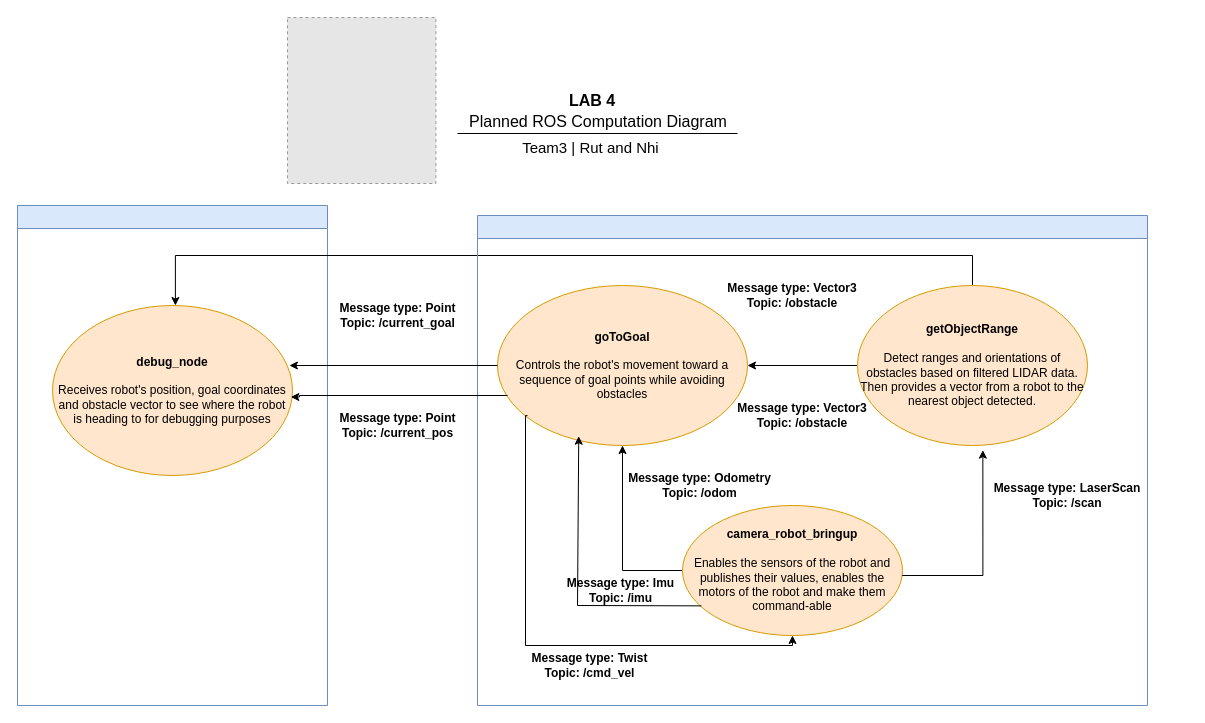
The diagram is 1205 pixels wide and 723 high, and some of its shapes have lost their labels. Grey dashed boxes stand in for pictures. The box of each missing label's shape, as (x1, y1, x2, y2) in pixels:
Laptop/Computer: (16, 204, 328, 706)
Turtlebot3: (476, 214, 1148, 706)
